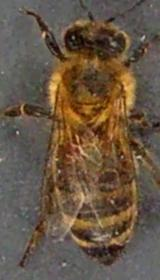varroa_mite: (54, 134, 89, 162)
